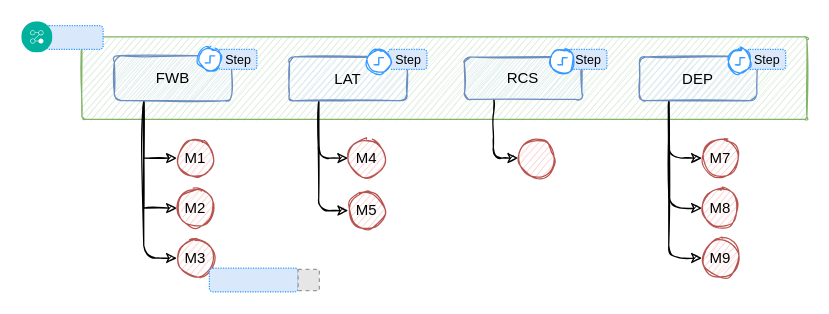
Image size: 829x314. Some labels were removed from this diagram. Grey dashed boxes stand in for pictures. Here are the shapes that lost their labels. From the top down, the centre of each, then its label:
the point at 73,36: Process
the point at 536,157: M6
the point at 253,279: Measurement
